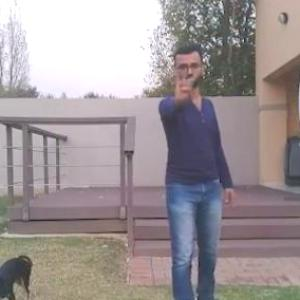takeoff-hand: (164, 60, 198, 100)
